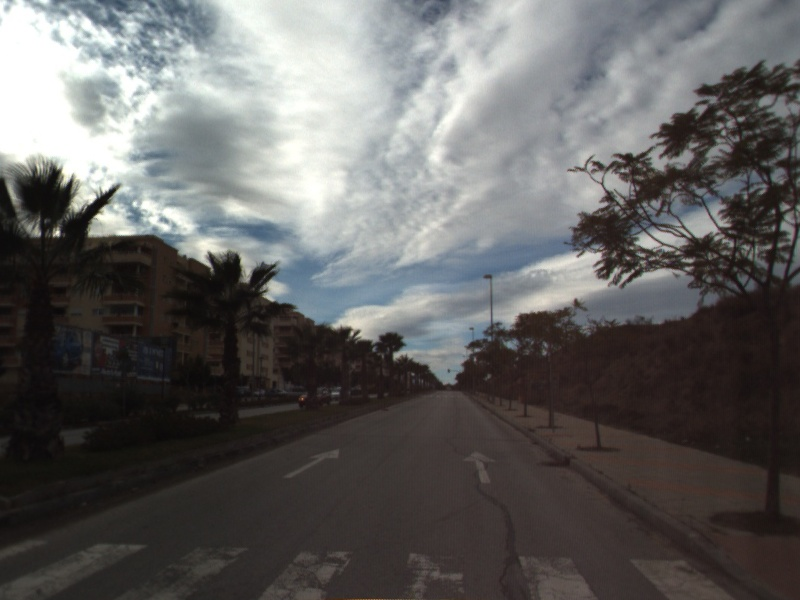STRAIGHT: (281, 447, 341, 480), (460, 448, 499, 486)
